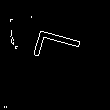L_E: (30, 32, 90, 76)
